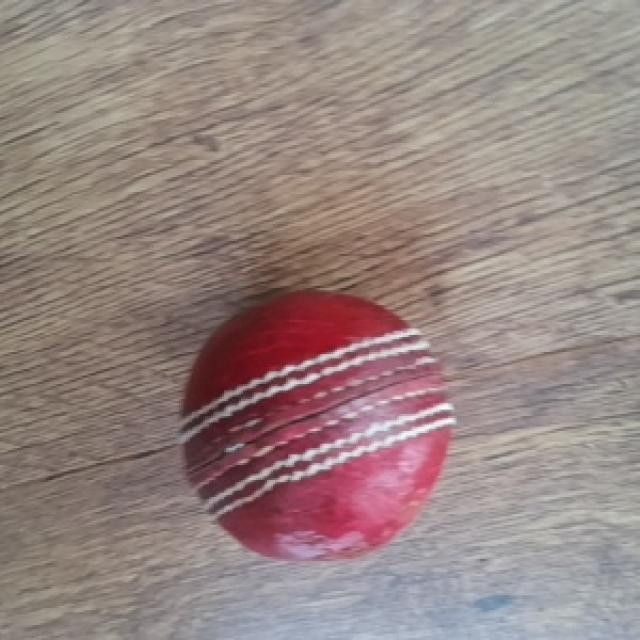ball: (194, 284, 453, 569)
